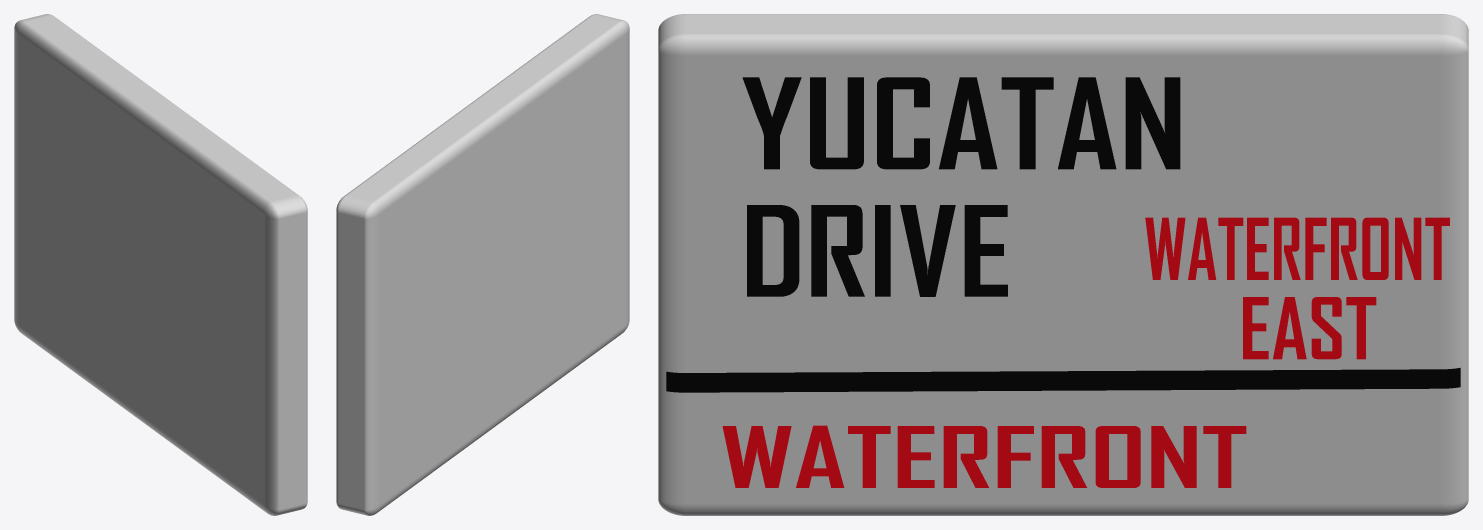
Rendered from uk_styled_street_sign_41.fbx.
3 renders of one model, left to right at view 1: azimuth 30°, elevation 25°; view 2: azimuth 150°, elevation 25°; view 3: azimuth 270°, elevation 25°, orthographic. The views are drawn at different scales.
Parts seen in each view (by area): view 1: Cube; view 2: Cube; view 3: Cube, Text, Text.002, Text.001, Text.003, Text.004.
Boxes of the visible parts, x1,y1,x2,y2 form: Cube: [14, 14, 307, 515]; Cube: [336, 14, 629, 515]; Cube: [658, 14, 1468, 515]; Text: [742, 77, 1180, 169]; Text.002: [722, 425, 1246, 487]; Text.001: [747, 205, 1007, 296]; Text.003: [1145, 217, 1449, 279]; Text.004: [1243, 297, 1376, 359].
Size of the model in its own units: 1.63 by 11.91 by 18.18.
